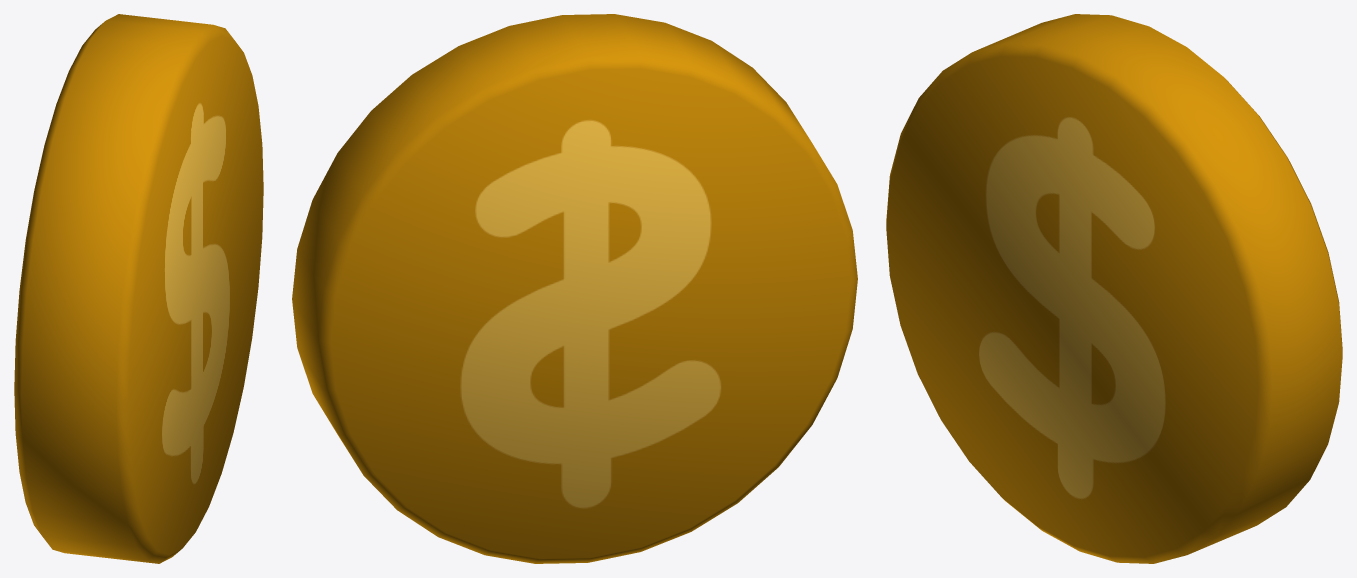
File: coinAsset.fbx
3 renders of one model, left to right at view 1: azimuth 30°, elevation 25°; view 2: azimuth 150°, elevation 25°; view 3: azimuth 270°, elevation 25°, orthographic. The views are drawn at different scales.
Visible parts, largest first — view 1: CoinStar; view 2: CoinStar; view 3: CoinStar.
Part boxes in pixels (box(x1,y1,x2,y2)): CoinStar: box(14, 14, 263, 563); CoinStar: box(292, 14, 857, 563); CoinStar: box(886, 14, 1342, 563).
Size of the model in its own units: 167 by 200 by 167.
